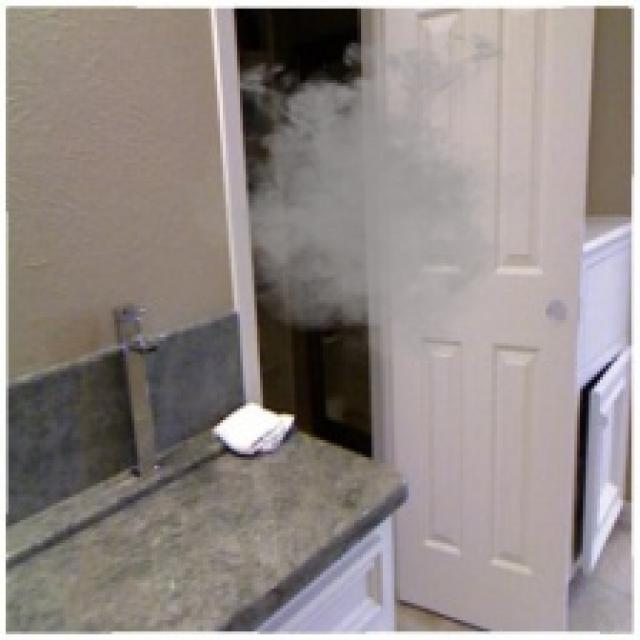smoke: (171, 20, 566, 369)
